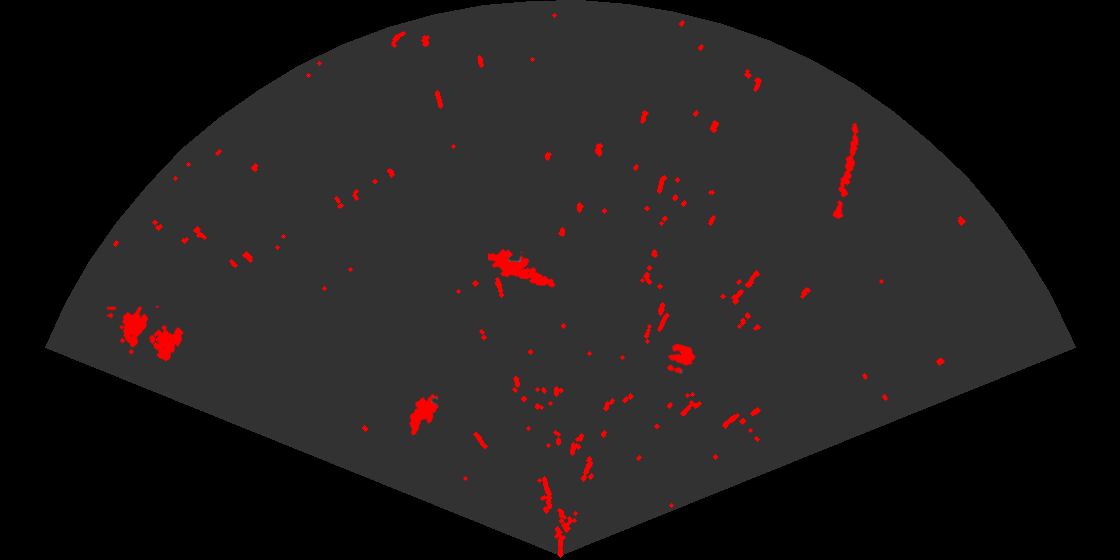AUV: (408, 392, 440, 437)
ball: (665, 342, 697, 375)
cage: (107, 306, 185, 363)
chain: (831, 121, 860, 221)
frogman: (488, 248, 557, 289)
